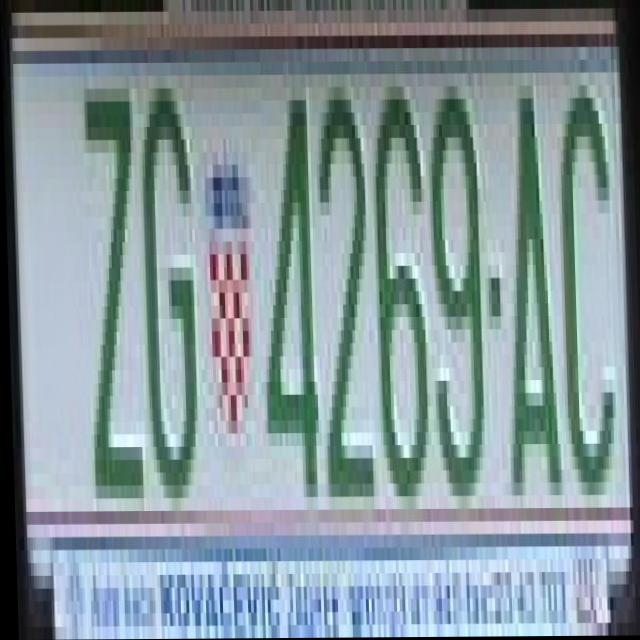2: (319, 100, 368, 485)
4: (261, 88, 312, 498)
6: (372, 74, 424, 484)
9: (423, 87, 483, 484)
A: (499, 86, 565, 510)
C: (564, 86, 618, 496)
G: (143, 88, 197, 499)
Z: (81, 76, 144, 499)
